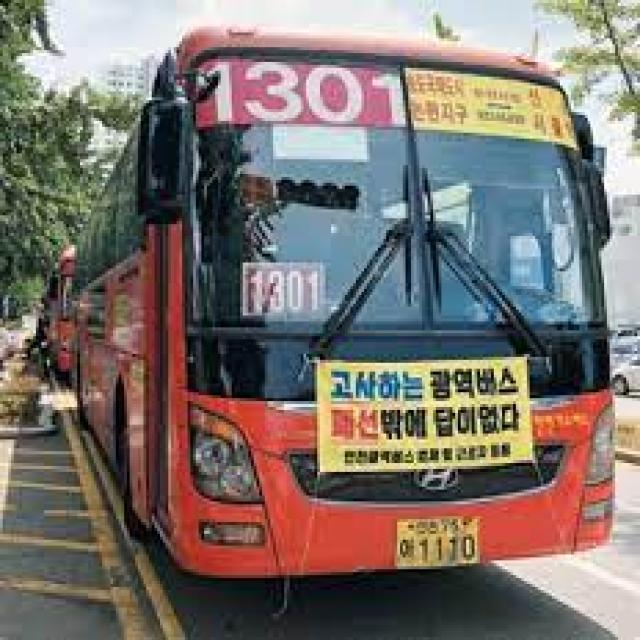bus-number: (205, 59, 408, 130)
